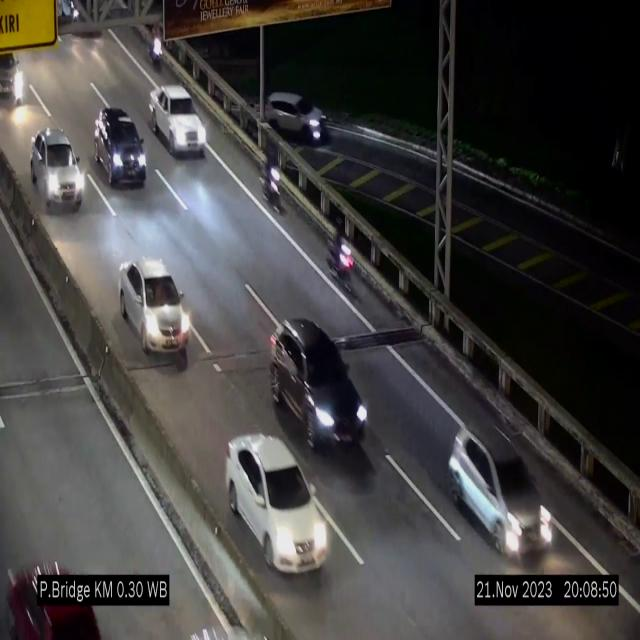Car: (226, 434, 328, 572), (448, 423, 552, 554), (268, 316, 368, 449), (0, 538, 108, 640), (120, 260, 190, 366), (29, 125, 86, 210), (257, 84, 331, 148), (149, 86, 207, 157), (95, 106, 146, 186), (0, 46, 30, 109)
Motorcycle: (327, 220, 356, 292), (258, 144, 284, 216), (150, 27, 168, 77)
